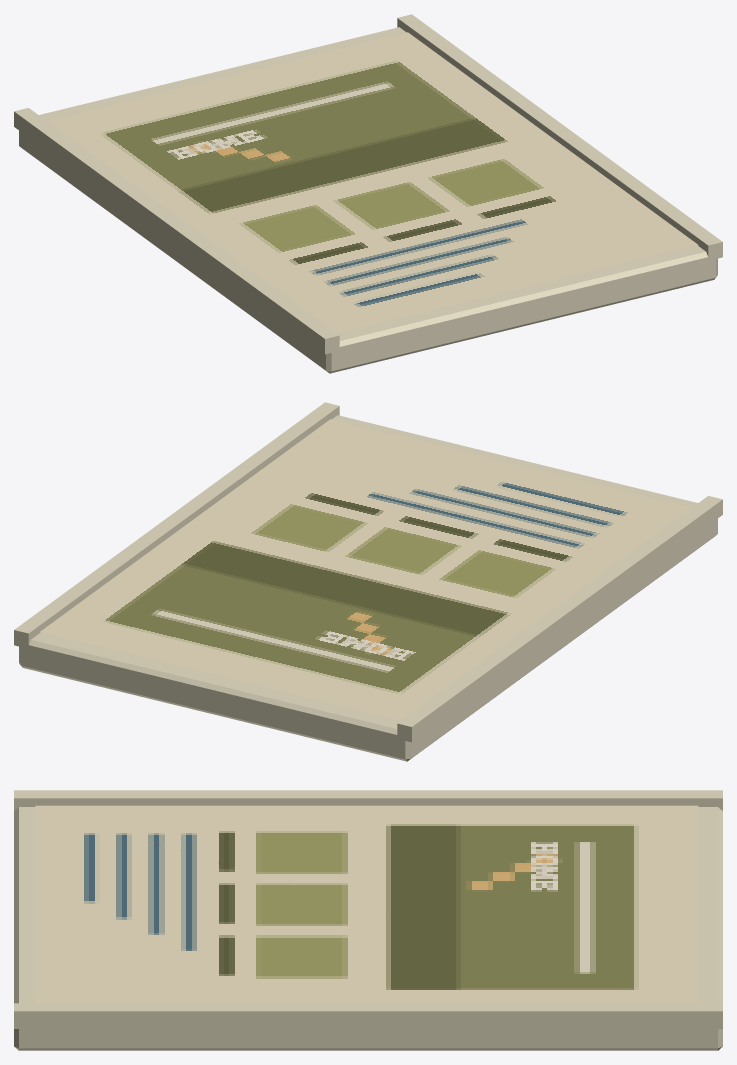
File: furniturebrochure.glb
3 views of the same model, one above another, from view 1: azimuth 30°, elevation 25°; view 2: azimuth 150°, elevation 25°; view 3: azimuth 270°, elevation 25° (orthographic). The views are drawn at different scales.
Visible parts, largest first — view 1: block_printed face, block_paper or card stock, block_folded paper edge (×2); view 2: block_printed face, block_paper or card stock, block_folded paper edge (×2); view 3: block_printed face, block_folded paper edge (×2), block_paper or card stock.
Boxes of the visible parts, x1,y1,x2,y2 form: block_printed face: [46, 32, 698, 333]; block_paper or card stock: [19, 27, 717, 373]; block_folded paper edge (×2): [14, 14, 722, 354]; block_printed face: [40, 419, 691, 720]; block_paper or card stock: [19, 415, 717, 761]; block_folded paper edge (×2): [14, 402, 722, 742]; block_printed face: [35, 805, 698, 1003]; block_folded paper edge (×2): [14, 790, 722, 1028]; block_paper or card stock: [14, 807, 722, 1050].
Bounding box in the file's own units: 0.1814 × 0.0165 × 0.2457.
1 material, 1 textured.
